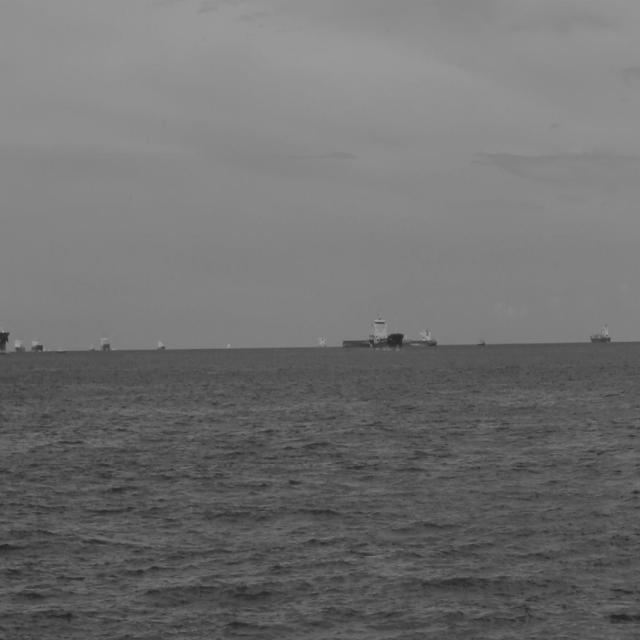ship: (338, 317, 402, 355), (341, 316, 404, 351), (403, 329, 438, 346), (590, 324, 614, 346), (592, 320, 614, 344), (27, 336, 45, 356), (0, 325, 9, 354), (99, 334, 112, 354), (12, 337, 24, 355), (156, 336, 166, 352)
